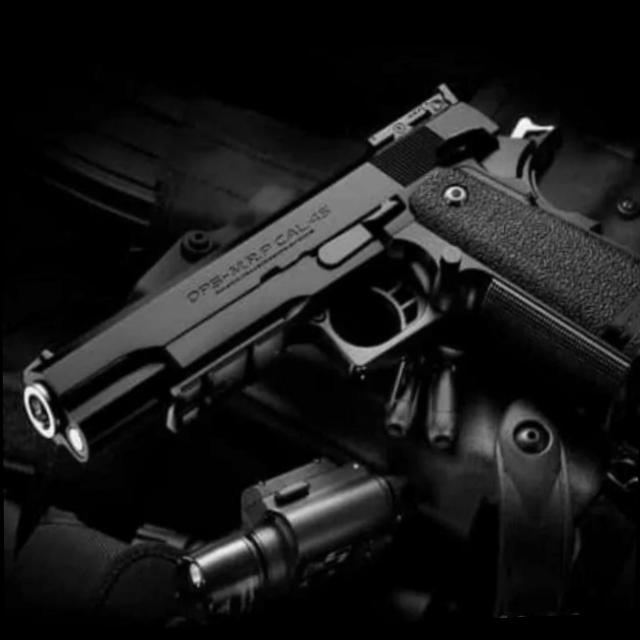weapon: (5, 58, 640, 492)
